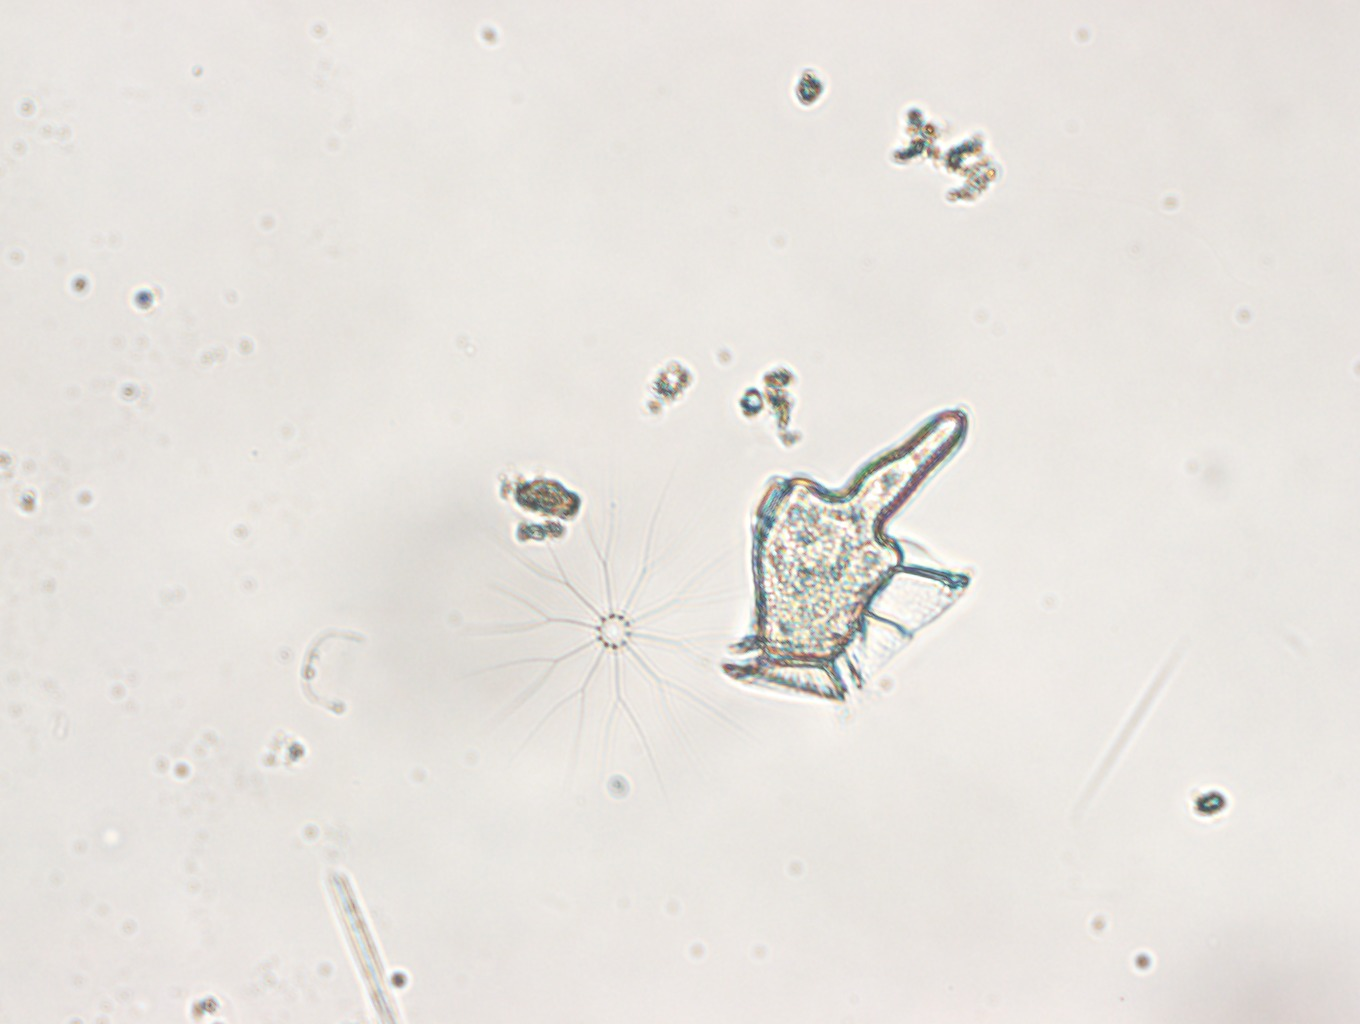bacteriastrum: (466, 499, 749, 780)
dinophysis caudata: (718, 397, 977, 711)
